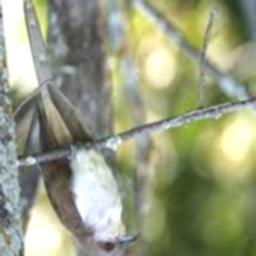Cuckoo: (24, 0, 142, 256)
